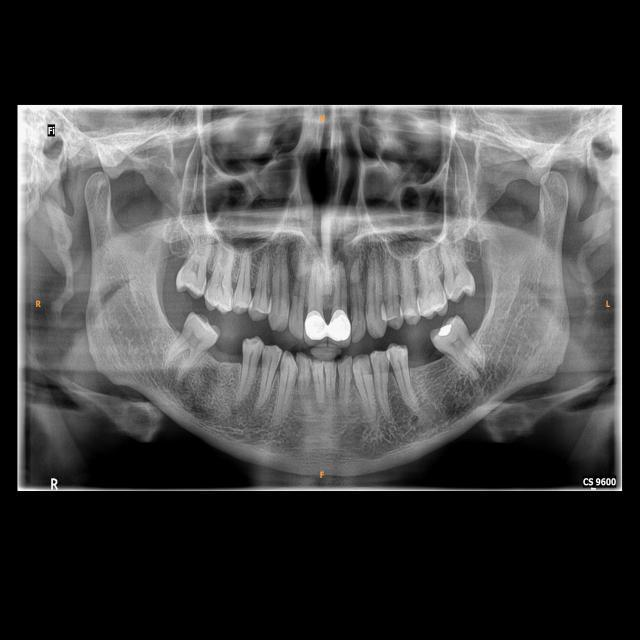dolgu: (434, 321, 454, 340)
kaplama: (326, 307, 352, 340), (304, 308, 328, 339)
